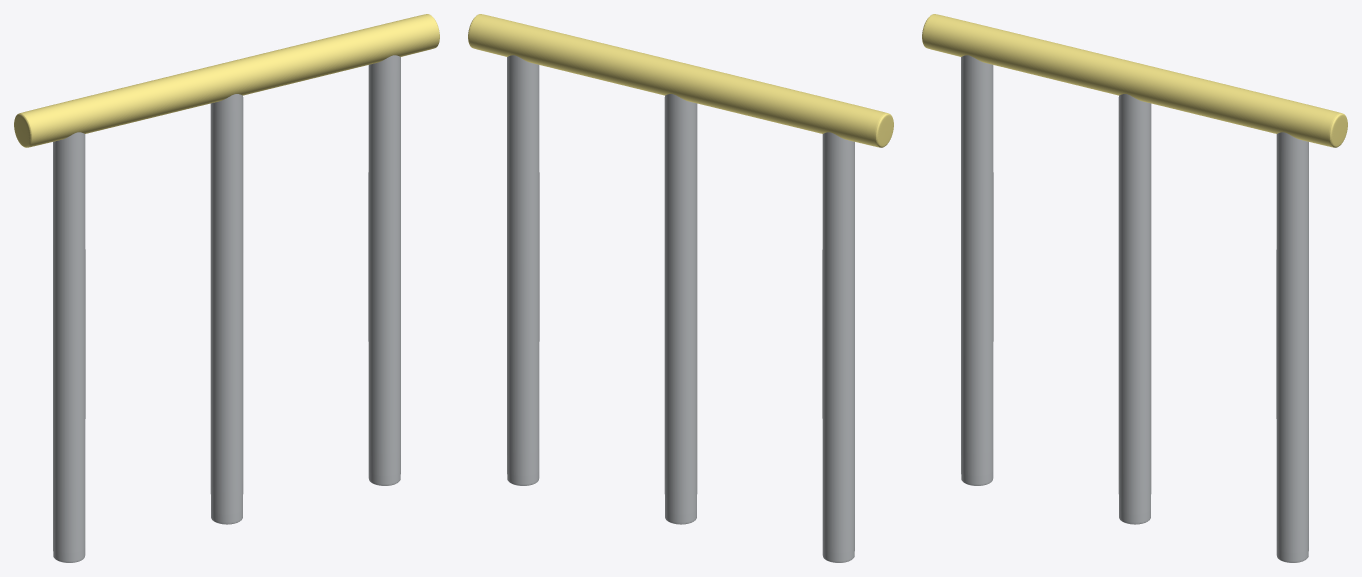
Rendered from Toy_Bars_Hi.fbx.
3 views of the same model, side by side, from view 1: azimuth 30°, elevation 25°; view 2: azimuth 150°, elevation 25°; view 3: azimuth 330°, elevation 25° (orthographic).
Parts seen in each view (by area): view 1: Cylinder.003, Cylinder.001, Cylinder, Cylinder.002; view 2: Cylinder.003, Cylinder.001, Cylinder, Cylinder.002; view 3: Cylinder.003, Cylinder.001, Cylinder.002, Cylinder.
Boxes of the visible parts, left/top/right/bottom form: Cylinder.003: left=14, top=14, right=439, bottom=147; Cylinder.001: left=210, top=94, right=243, bottom=524; Cylinder: left=53, top=132, right=85, bottom=562; Cylinder.002: left=368, top=55, right=400, bottom=485; Cylinder.003: left=468, top=14, right=893, bottom=147; Cylinder.001: left=664, top=94, right=697, bottom=524; Cylinder: left=822, top=132, right=854, bottom=562; Cylinder.002: left=507, top=55, right=539, bottom=485; Cylinder.003: left=922, top=14, right=1347, bottom=147; Cylinder.001: left=1118, top=94, right=1151, bottom=524; Cylinder.002: left=1276, top=132, right=1308, bottom=562; Cylinder: left=961, top=55, right=993, bottom=485.
Bounding box in the file's own units: 1.3 × 1.37 × 0.0993.
